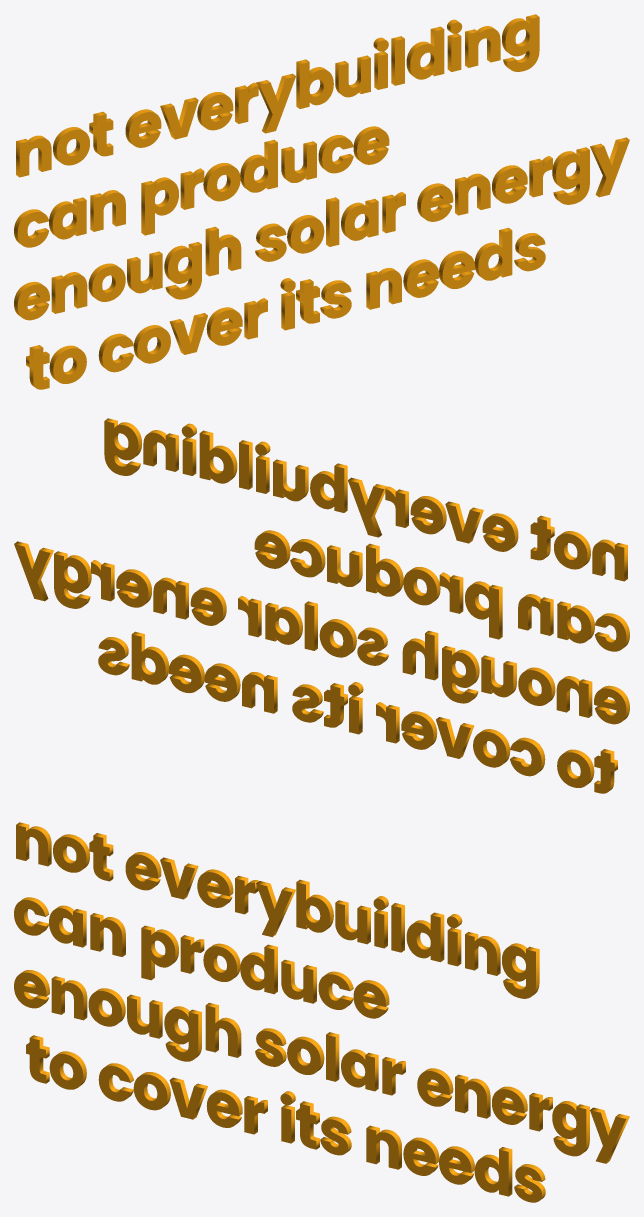
File: Becauseexpl.gltf
3 renders of one model, top to bottom at view 1: azimuth 30°, elevation 25°; view 2: azimuth 150°, elevation 25°; view 3: azimuth 330°, elevation 25°, orthographic.
Parts seen in each view (by area): view 1: simsekyazi.010; view 2: simsekyazi.010; view 3: simsekyazi.010.
Part boxes in pixels (x1,y1,x2,y2): simsekyazi.010: [14, 14, 629, 389]; simsekyazi.010: [14, 418, 629, 793]; simsekyazi.010: [14, 822, 629, 1202].
Bounding box in the file's own units: 0.2753 × 0.1146 × 0.0028.
